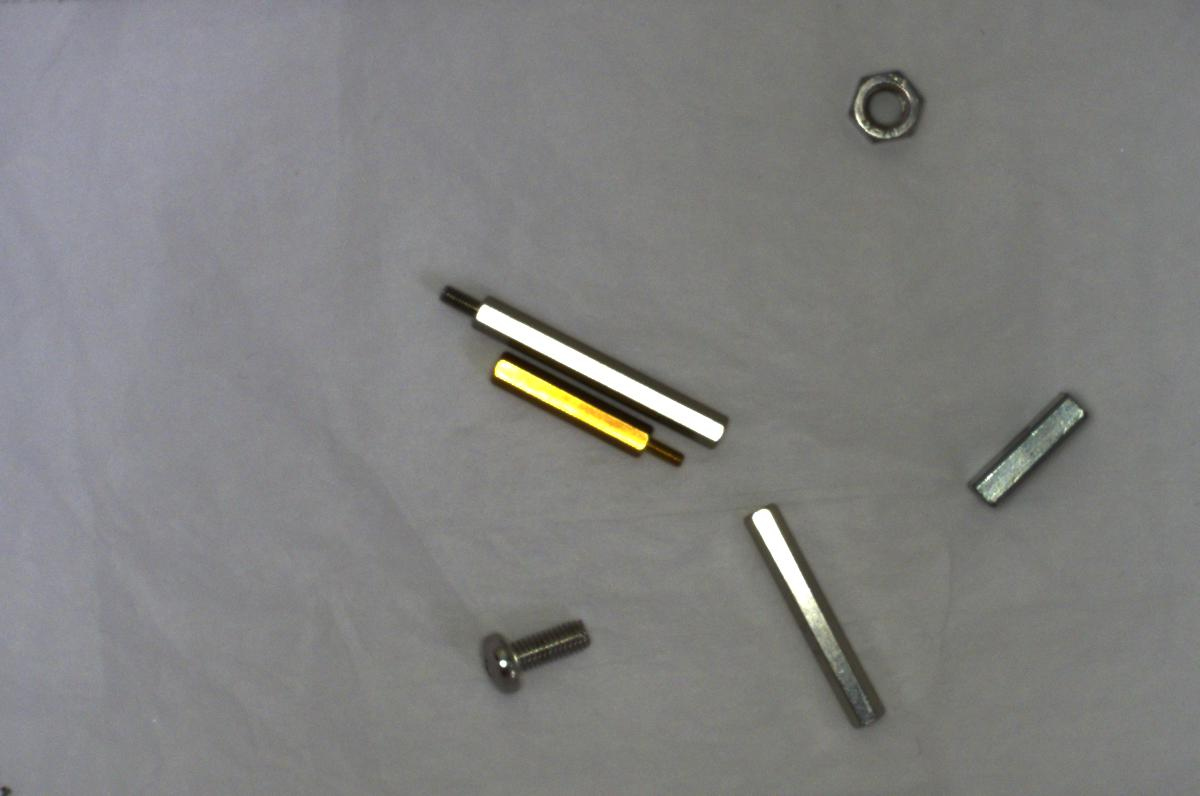Double hexagonal column: (739, 499, 884, 735)
Hexagon nut: (847, 62, 931, 147)
Hexagon pillar: (477, 353, 688, 478)
Hexagonal steel column: (438, 280, 738, 441)
Rectangular nut: (958, 386, 1093, 516)
Round head screw: (477, 605, 601, 698)
